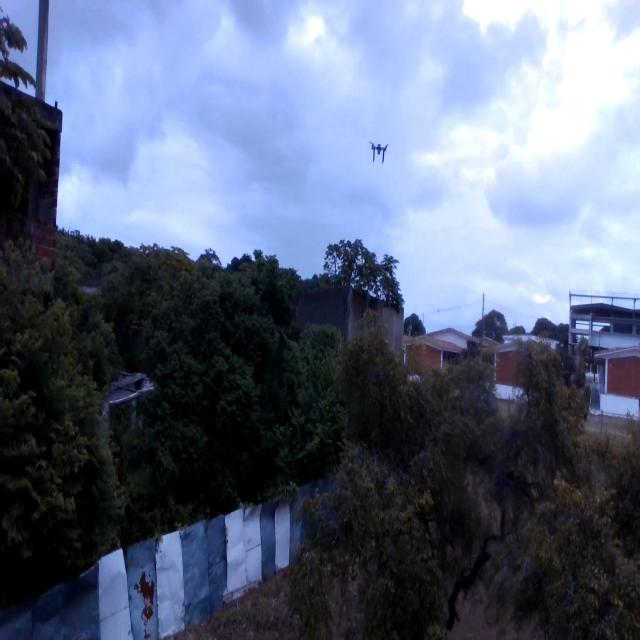-uav-: (359, 124, 399, 182)
